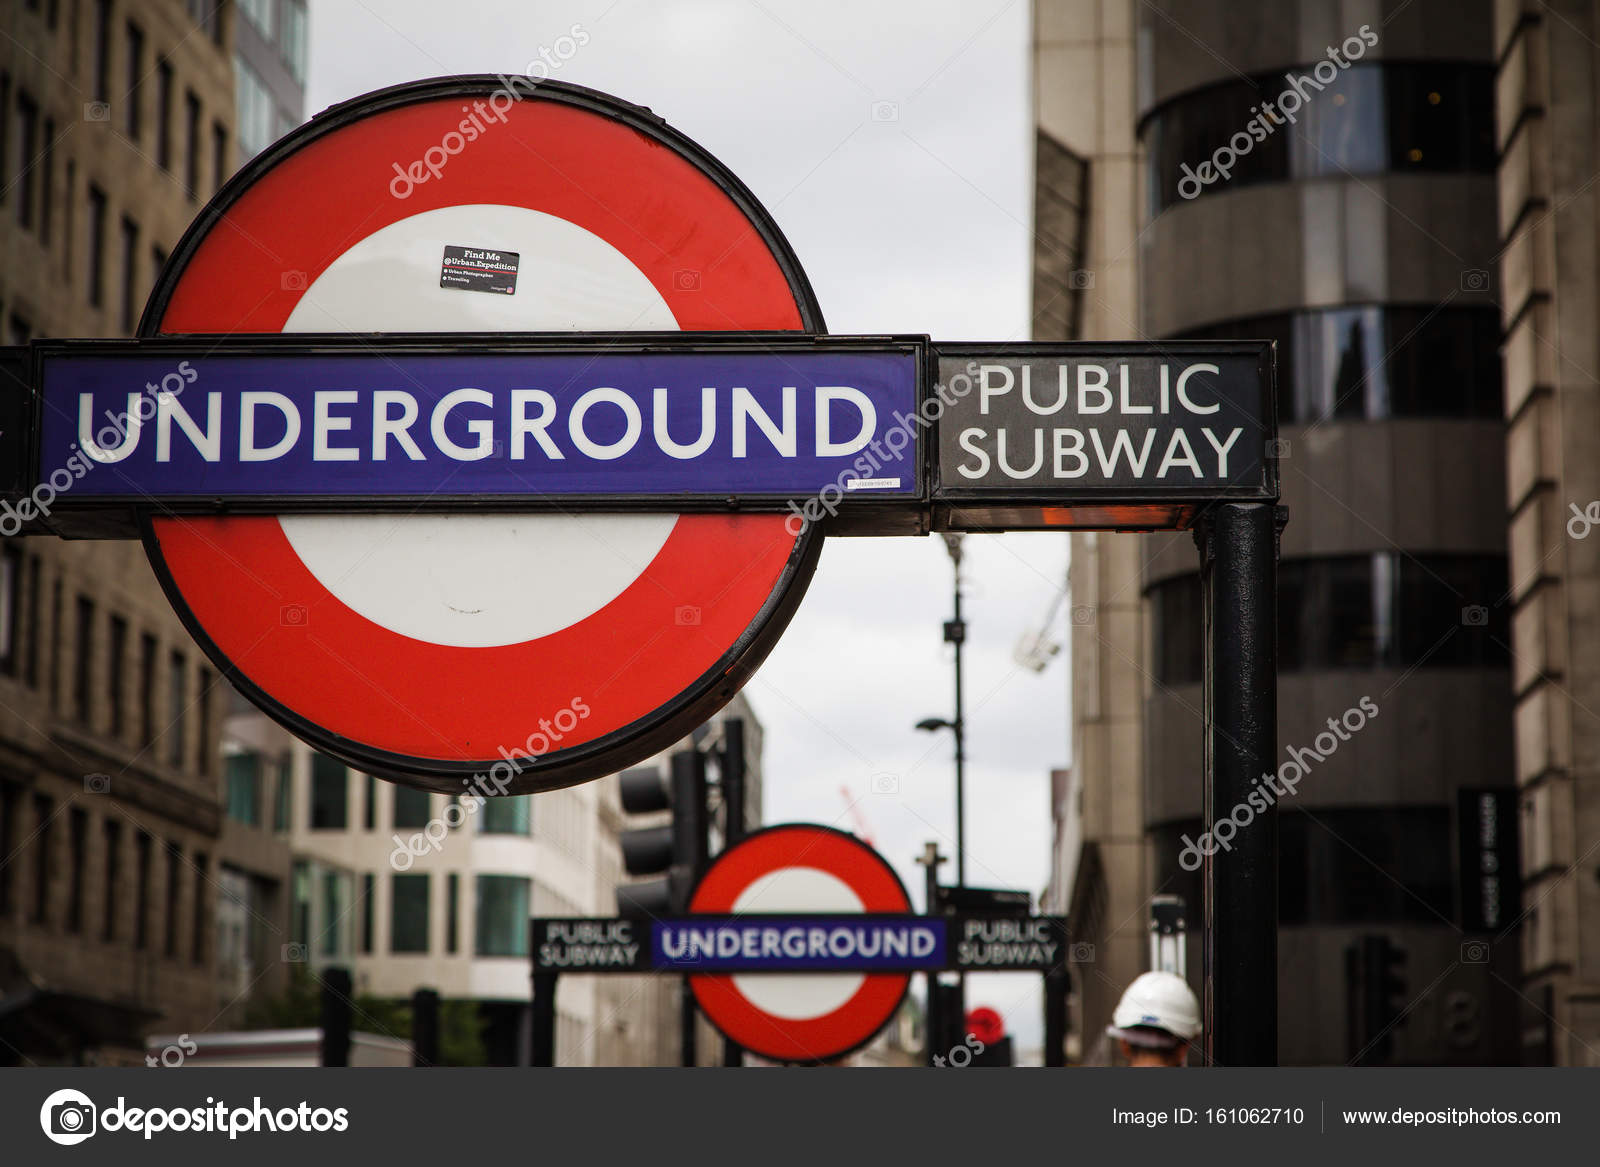London Underground: (21, 83, 924, 789), (670, 815, 925, 1063)
